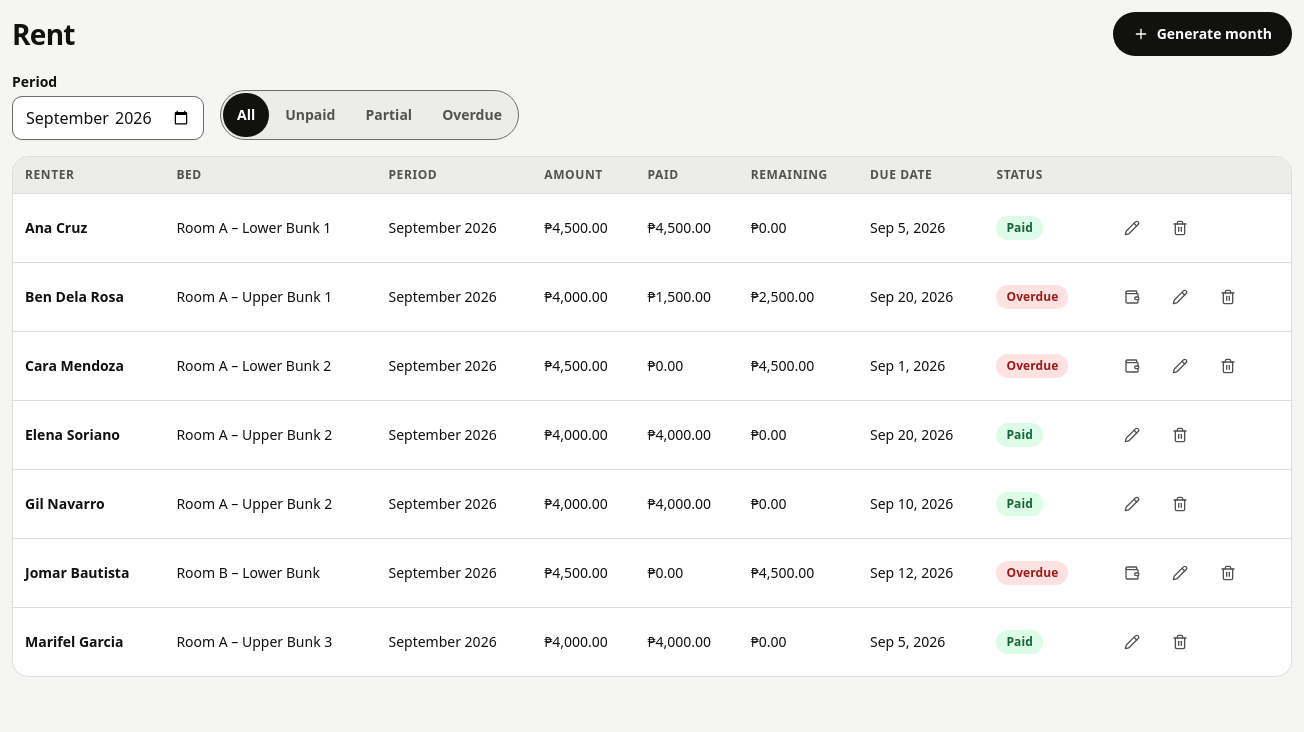
Test: AdminRentPage (F16, R35, R36, R55, SC-32, SC-33, SC-35, SC-56, SC-57) › lists the period charges (overdue badge) and filters by status with its own empty state
The image size is (1304, 732).
Expected: the text "Ana Cruz" is shown, [13, 194, 164, 262]
Expected: the row that starts with "Ben Dela Rosa" shows "Overdue", [1006, 288, 1058, 305]
Click the radio button labelled "Partial": (389,115) [351, 93, 426, 137]
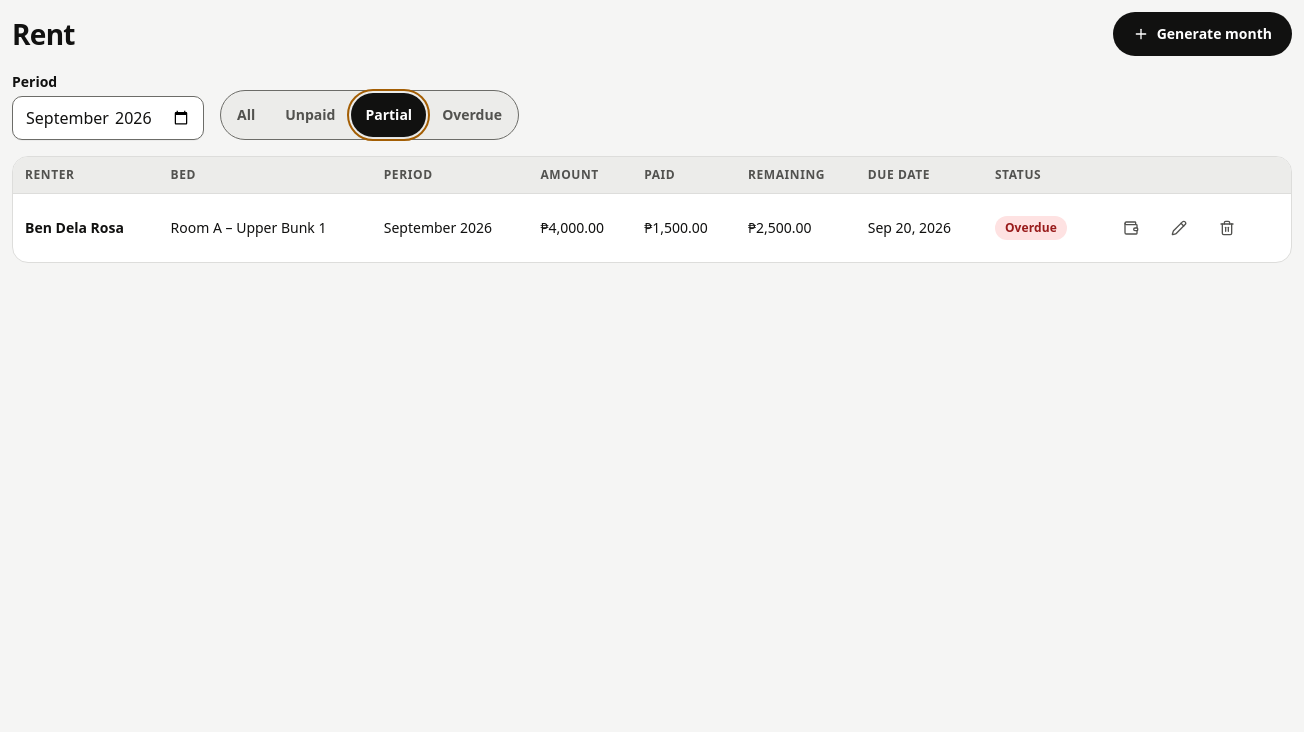
Expected: the text "Ben Dela Rosa" is shown, [13, 194, 159, 262]
Now the text "Ana Cruz" is gone
Replace the text in the field labelled "Period" with "2030-01": (108,118) [12, 96, 204, 140]
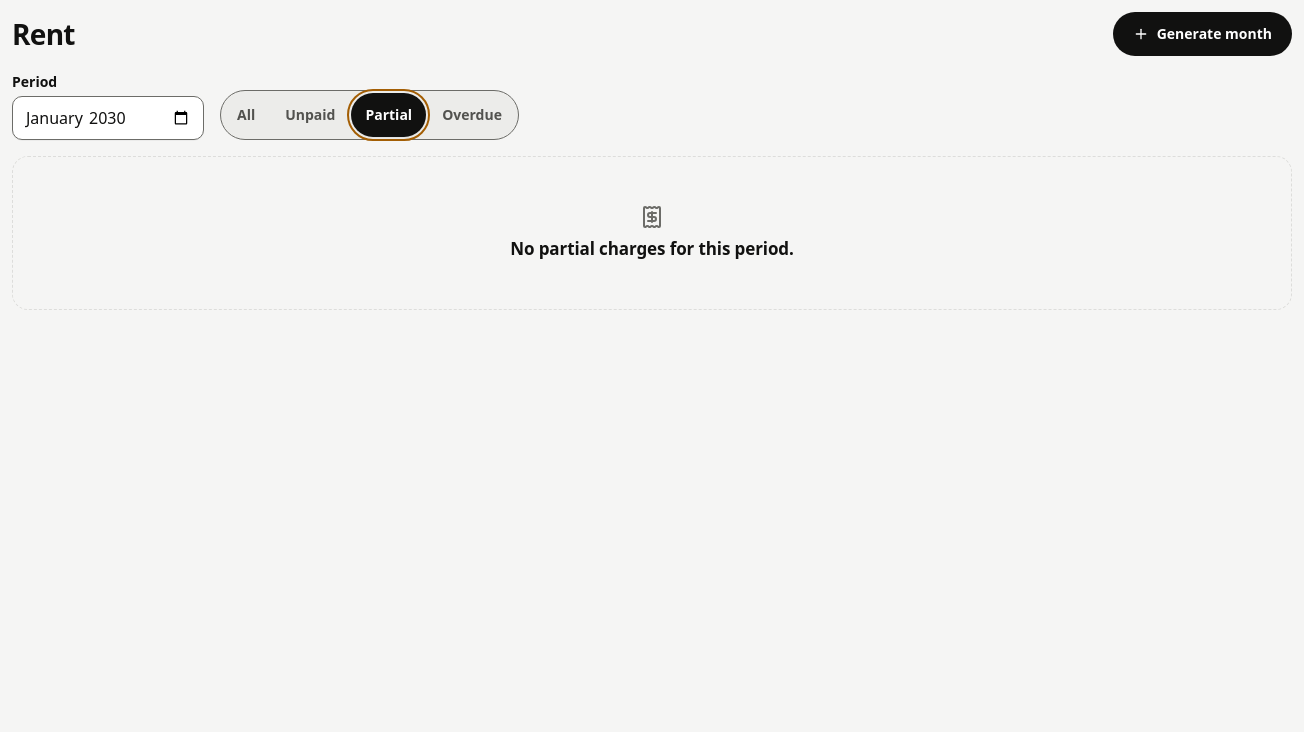
Now the text "No partial charges for this period." is shown, box [510, 237, 794, 261]
